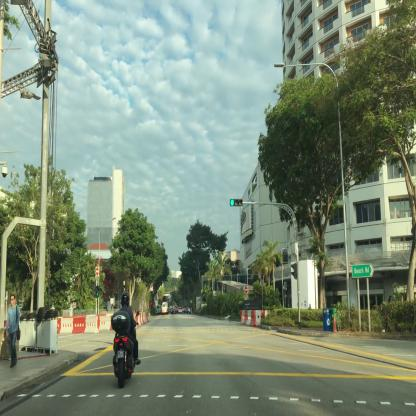green_traffic_light: (230, 198, 242, 207)
